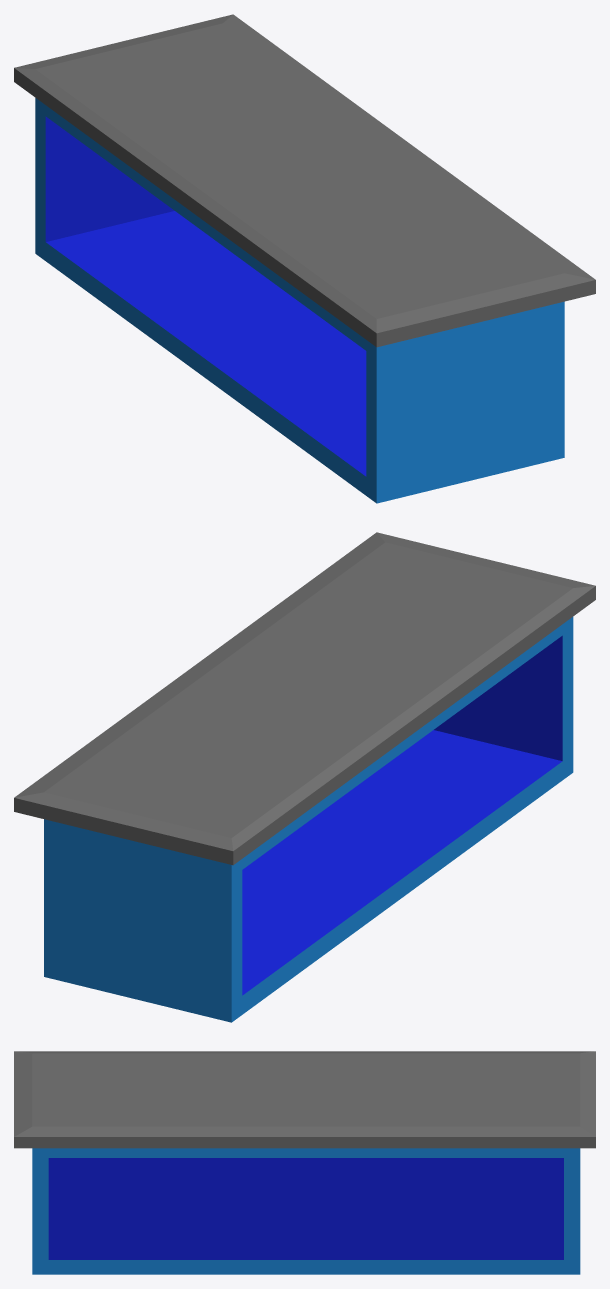
Rendered from tv meubel.fbx.
The picture shows the model from 3 angles, top to bottom: view 1: azimuth 30°, elevation 25°; view 2: azimuth 150°, elevation 25°; view 3: azimuth 270°, elevation 25°; orthographic projection. The views are drawn at different scales.
Visible parts, largest first — view 1: tv meubel; view 2: tv meubel; view 3: tv meubel.
Part boxes in pixels (box(x1,y1,x2,y2)): tv meubel: box(14, 14, 595, 503); tv meubel: box(14, 532, 595, 1022); tv meubel: box(14, 1051, 595, 1274).
Bounding box in the file's own units: 9888 × 7950 × 28329.
